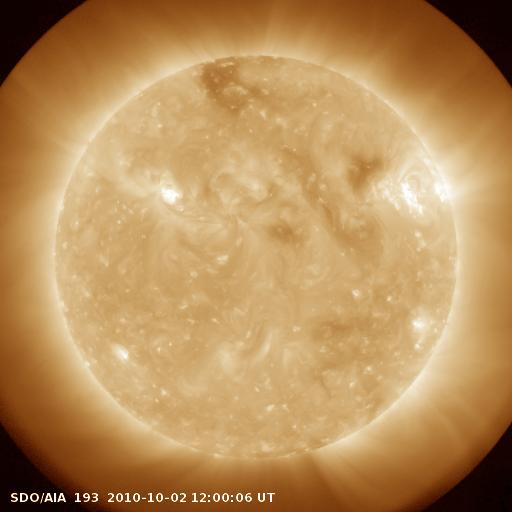coronal_hole: (197, 49, 262, 109), (340, 147, 386, 196)
